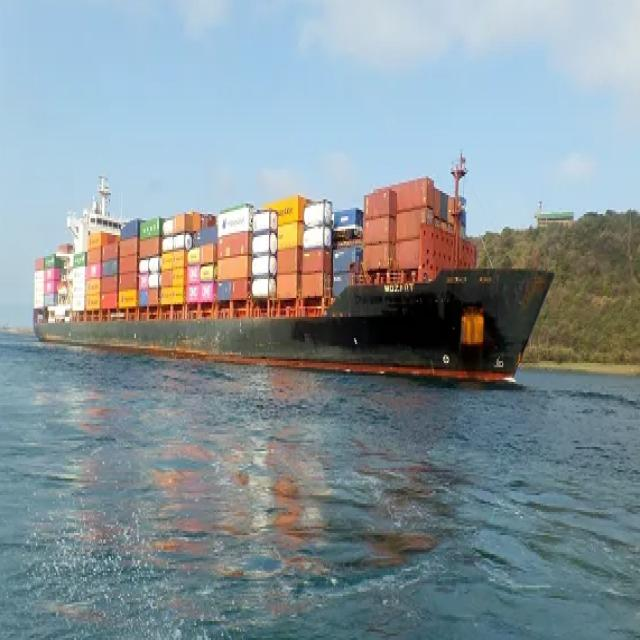cargoship: (26, 147, 544, 418)
